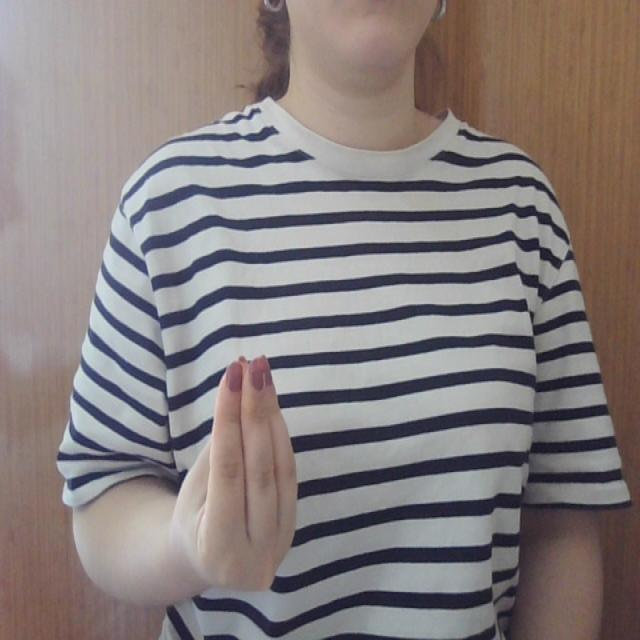iyi: (181, 347, 309, 600)
